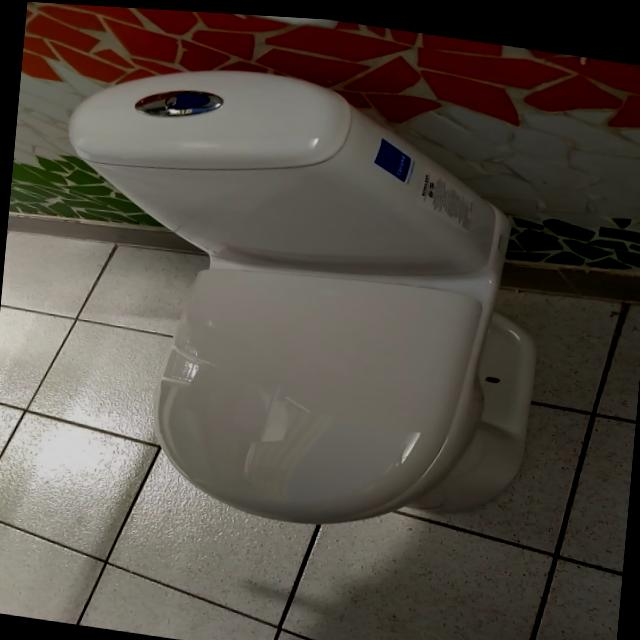toilet: (35, 41, 558, 551)
